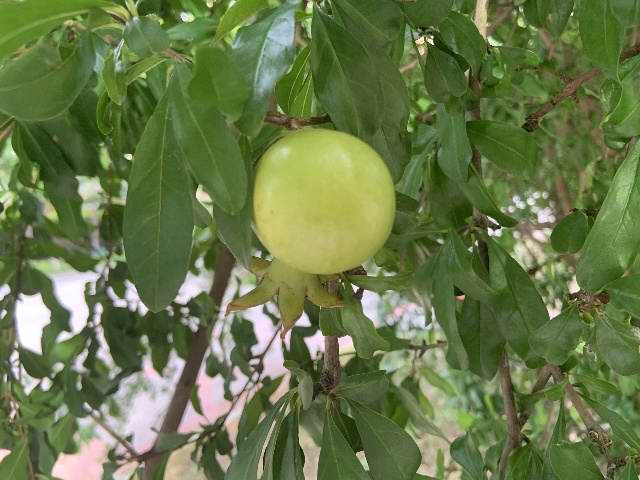mid-growth: (225, 127, 396, 336)
